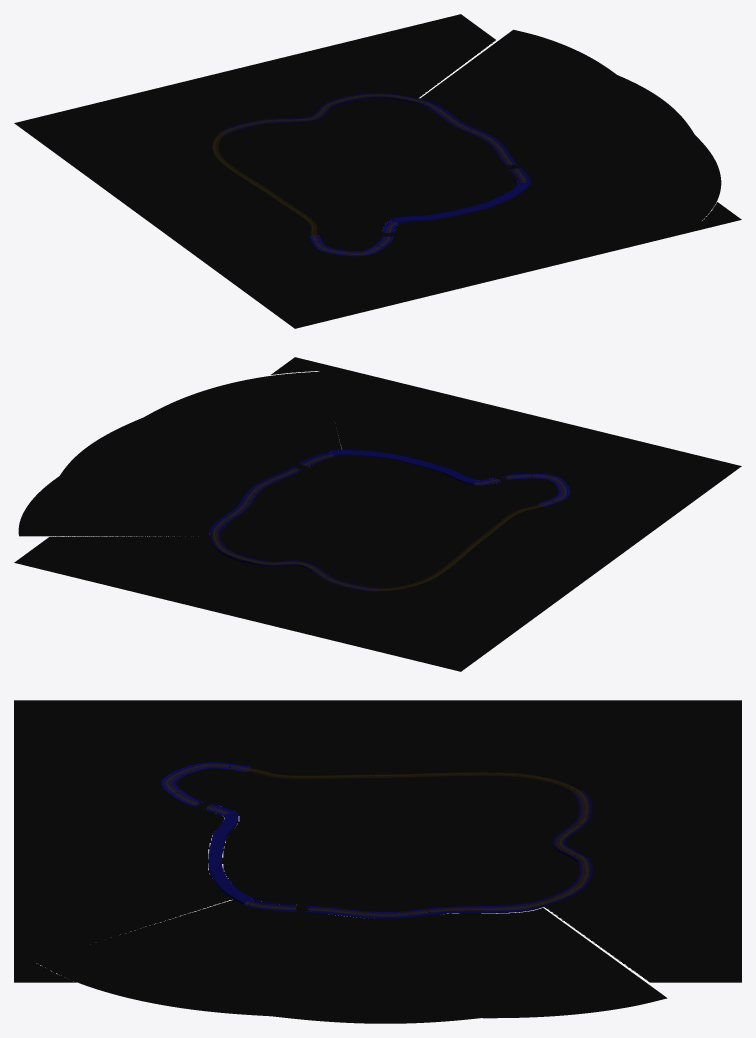
Rendered from city_01_road.glb.
The picture shows the model from 3 angles, top to bottom: view 1: azimuth 30°, elevation 25°; view 2: azimuth 150°, elevation 25°; view 3: azimuth 270°, elevation 25°; orthographic projection. The views are drawn at different scales.
Parts seen in each view (by area): view 1: ground-col, water_00; view 2: ground-col, water_00; view 3: ground-col, water_00.
Boxes of the visible parts, x1=… form: ground-col: x1=14, y1=14, x2=741, y2=328; water_00: x1=420, y1=29, x2=721, y2=221; ground-col: x1=14, y1=357, x2=741, y2=671; water_00: x1=18, y1=371, x2=341, y2=536; ground-col: x1=14, y1=700, x2=741, y2=982; water_00: x1=36, y1=899, x2=667, y2=1023.
Size of what is drawn, in the model's own units: 1235 by 8.92 by 1176.
